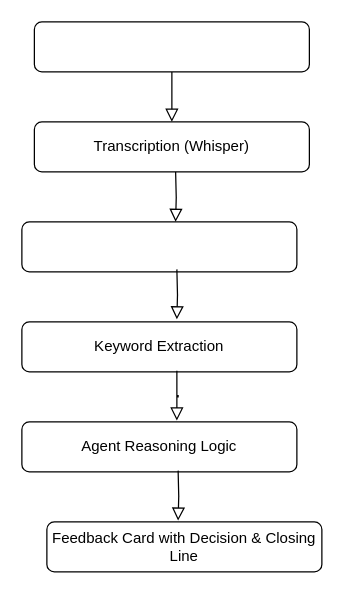
Some shapes in this 344 by 594 pixel diagram are drawn without their labels. Each missing label, with the box of its shape:
Candidate Audio Input: (33, 21, 309, 72)
Sentiment Analysis: (21, 221, 297, 272)
